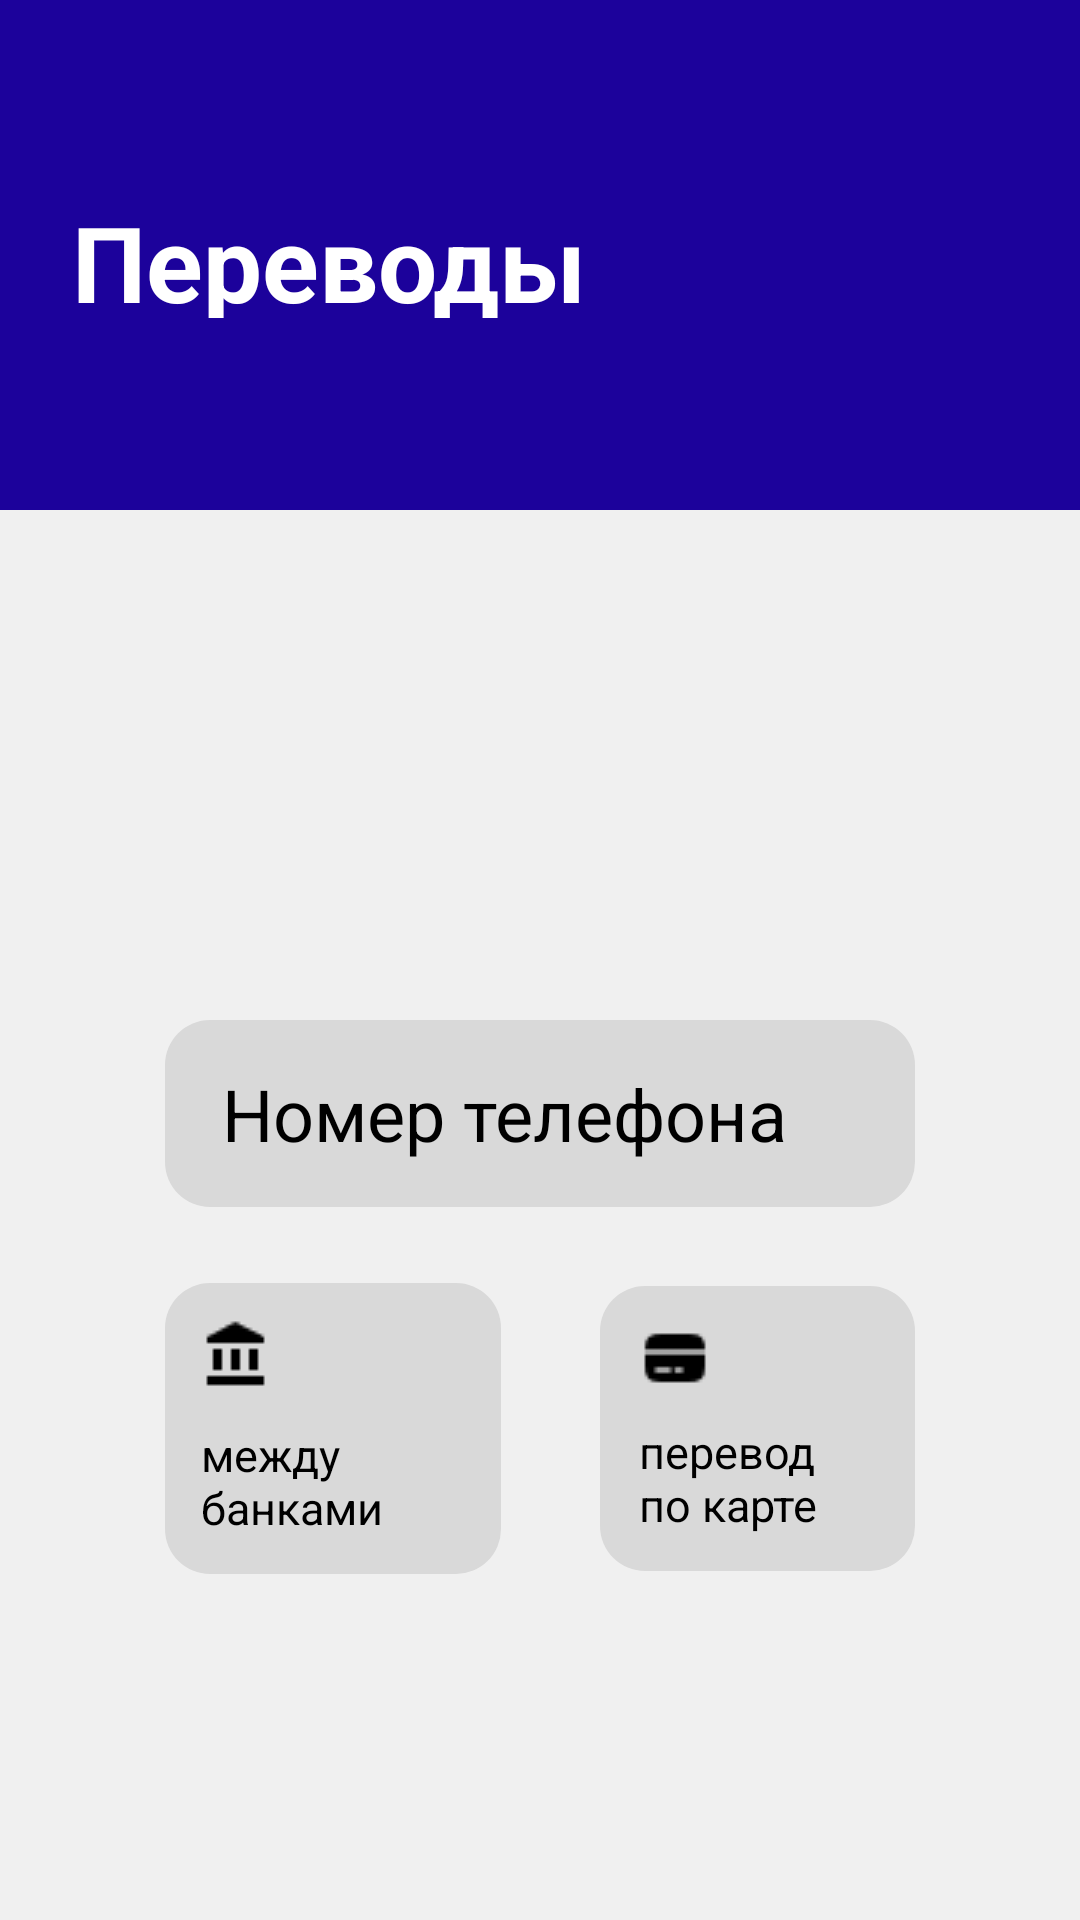

Where icons sit on this 1080px x 1920px app screen, as BBox(x1, y1, x2, y2):
bank: BBox(206, 1321, 265, 1386)
